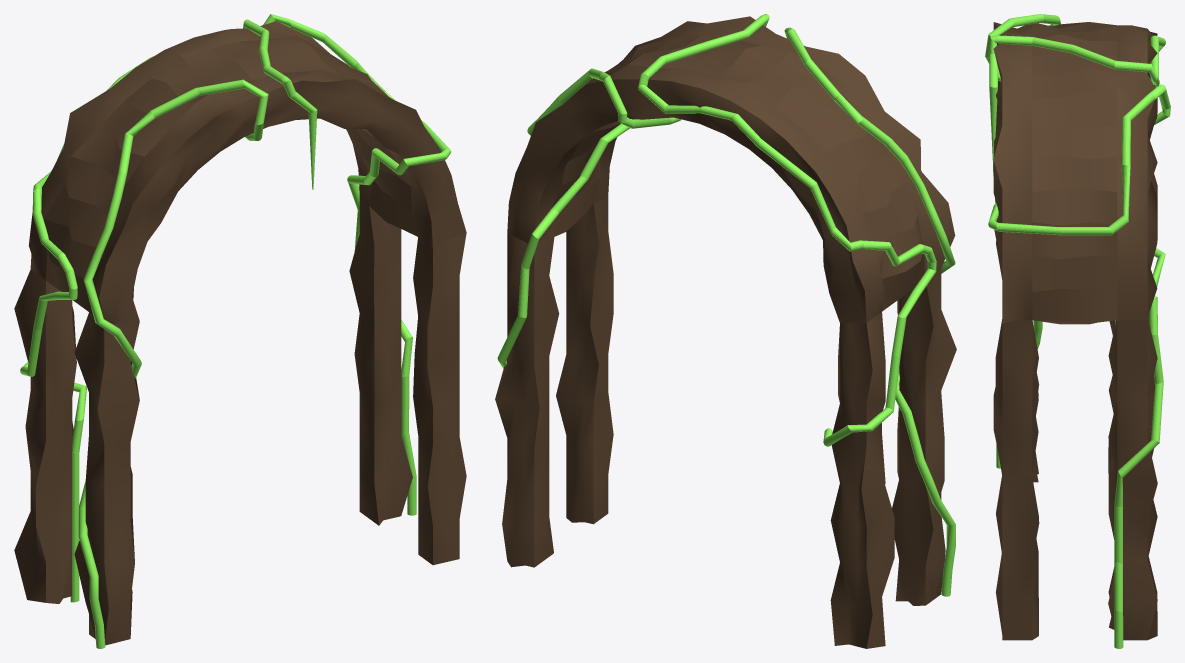
File: Arch way colour updated.fbx
3 renders of one model, left to right at view 1: azimuth 30°, elevation 25°; view 2: azimuth 150°, elevation 25°; view 3: azimuth 270°, elevation 25°, orthographic. The views are drawn at different scales.
Parts seen in each view (by area): view 1: Arch, Vines, Vine; view 2: Arch, Vines, Vine; view 3: Arch, Vines, Vine.
Part boxes in pixels (x1,y1,x2,y2): Arch: (14, 21, 466, 645); Vines: (78, 14, 451, 648); Vine: (20, 19, 317, 602); Arch: (495, 16, 956, 648); Vines: (497, 27, 955, 596); Vine: (638, 14, 936, 446); Arch: (993, 22, 1157, 640); Vines: (985, 14, 1170, 648); Vine: (989, 35, 1165, 325).
Bounding box in the file's own units: 27.1 × 35.88 × 11.47.
